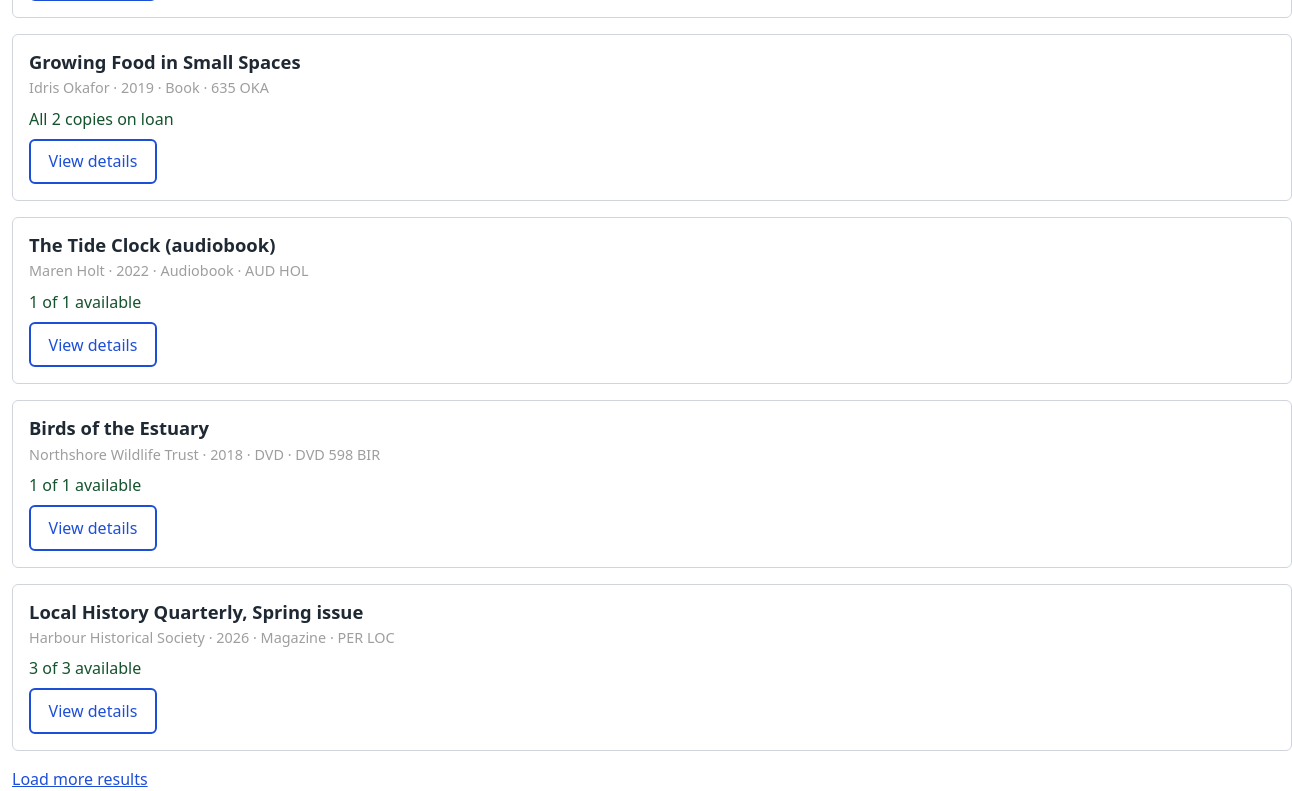
Test: SearchPage › lists the first page of results and loads more on request
(page scrolled)
Click the button "Load more results": point(80, 779) [12,767,148,790]
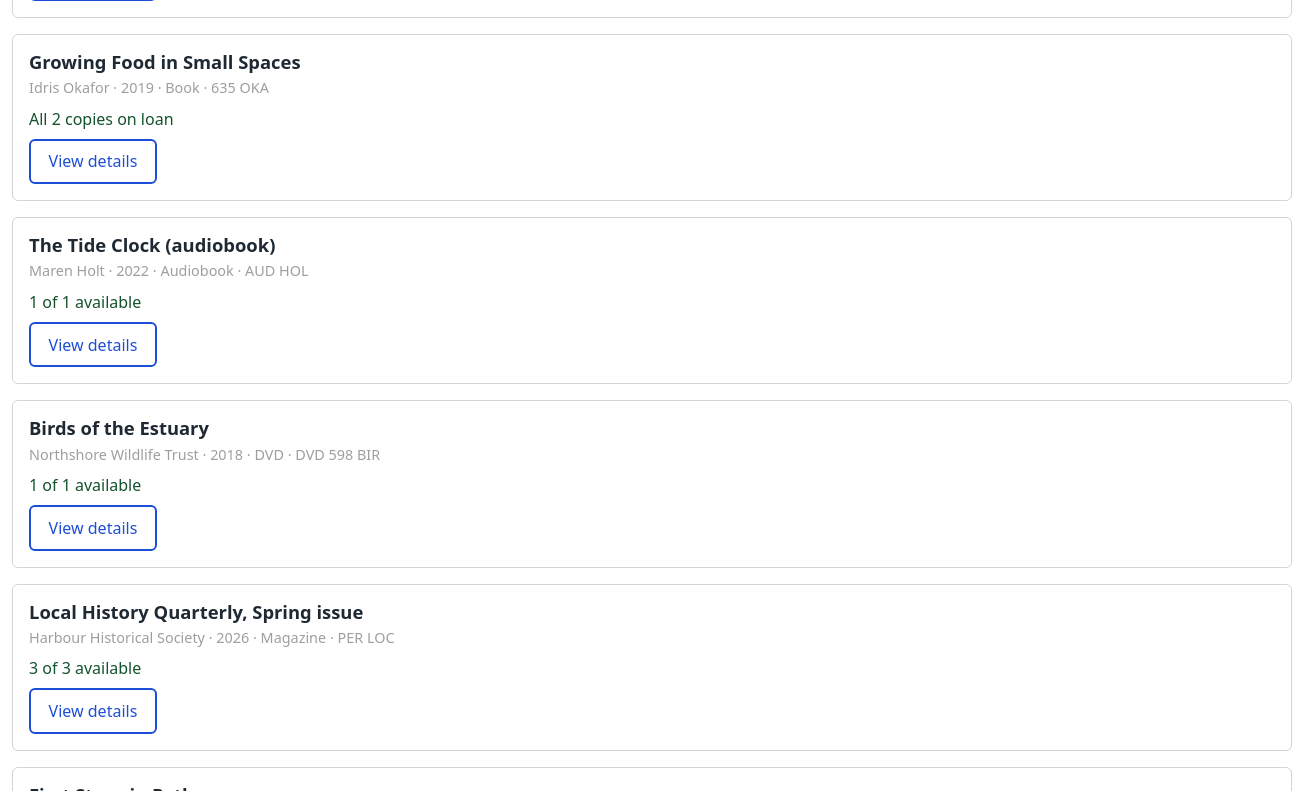
Expected: the button "Load more results" is gone
